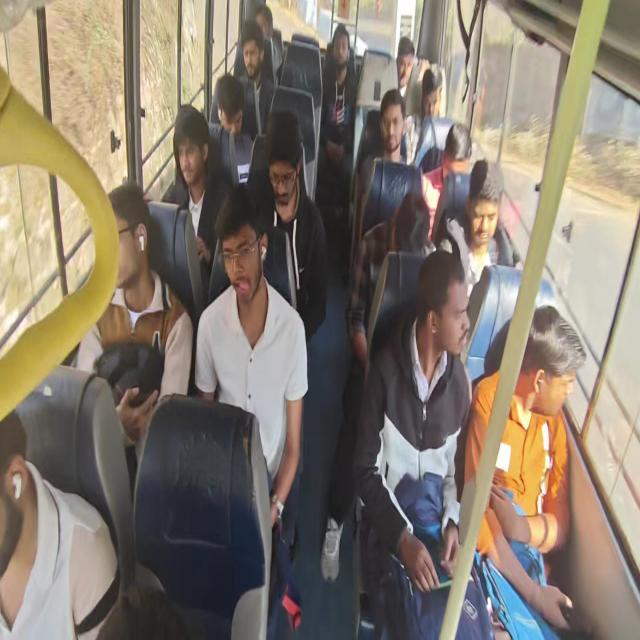person: (0, 384, 47, 566), (100, 191, 154, 299), (516, 324, 578, 414), (412, 266, 470, 358), (216, 211, 255, 297), (262, 139, 304, 217), (471, 170, 506, 251), (392, 205, 438, 259), (177, 115, 210, 183), (214, 80, 244, 141), (328, 21, 353, 76), (384, 100, 404, 150), (421, 71, 444, 113), (391, 41, 414, 82), (443, 130, 464, 174), (245, 38, 262, 81), (255, 5, 273, 39)
